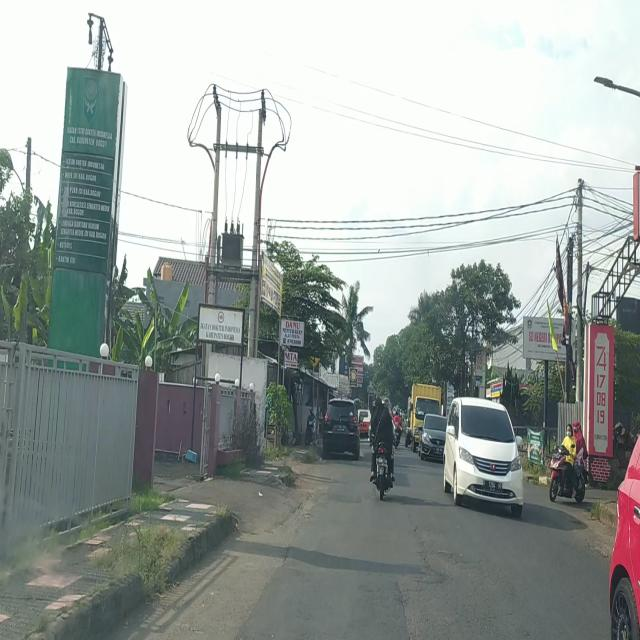Drain Hole: (409, 520, 515, 595)
